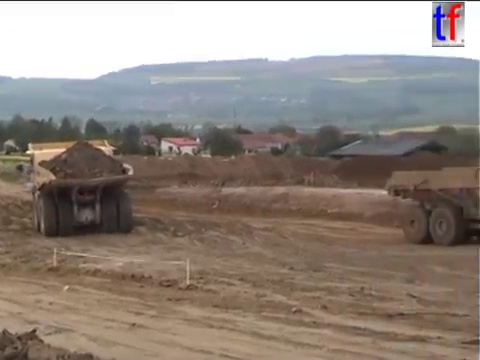truck: (14, 136, 135, 237), (382, 164, 480, 247)
